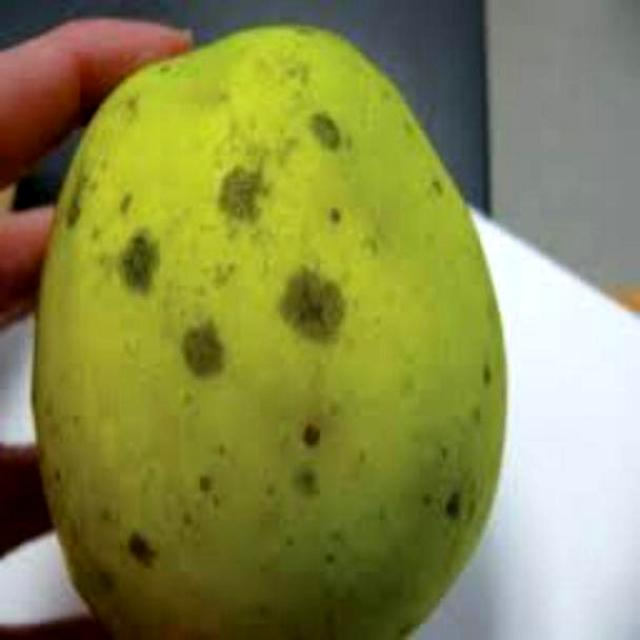BLOTCH: (15, 0, 542, 624)
